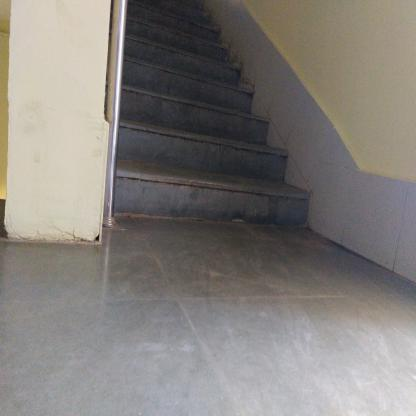stairs: (128, 28, 223, 229)
